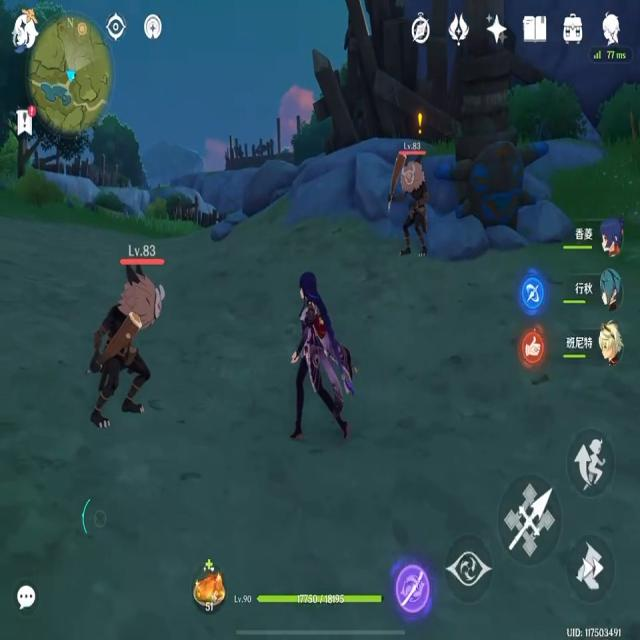genshin-hilichurls: (92, 266, 161, 423), (390, 157, 432, 264)
